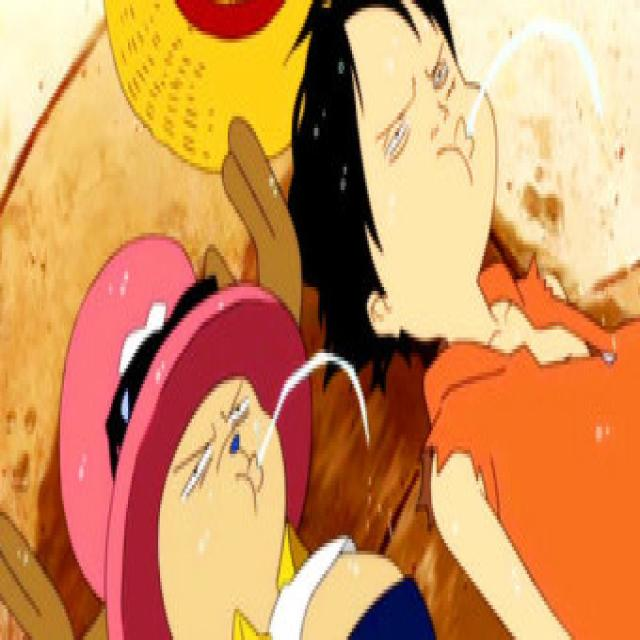Chyopa: (61, 221, 314, 640)
Luffy: (291, 5, 503, 372)
